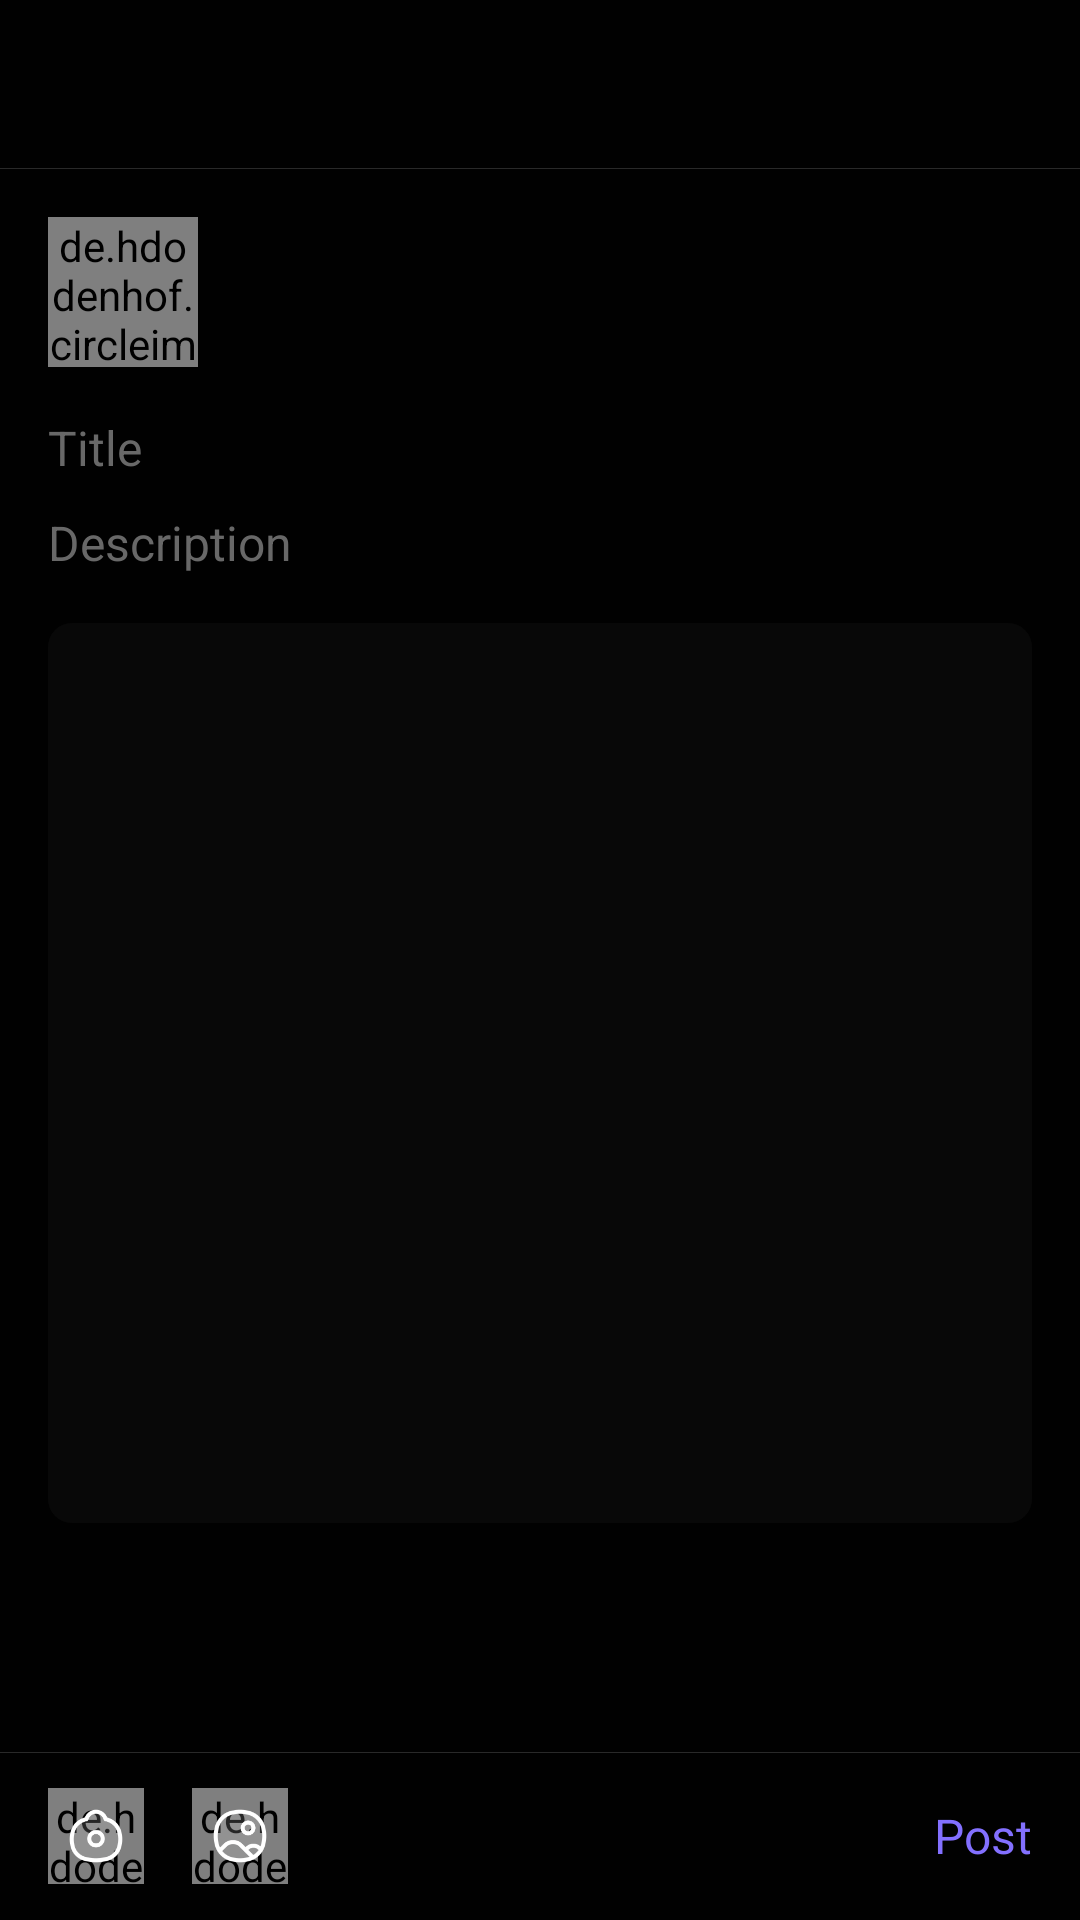

Screen size 1080*1920. Icon name, then its center in pixels as point (x, y):
camera: point (96, 1836)
gallery: point (240, 1836)
